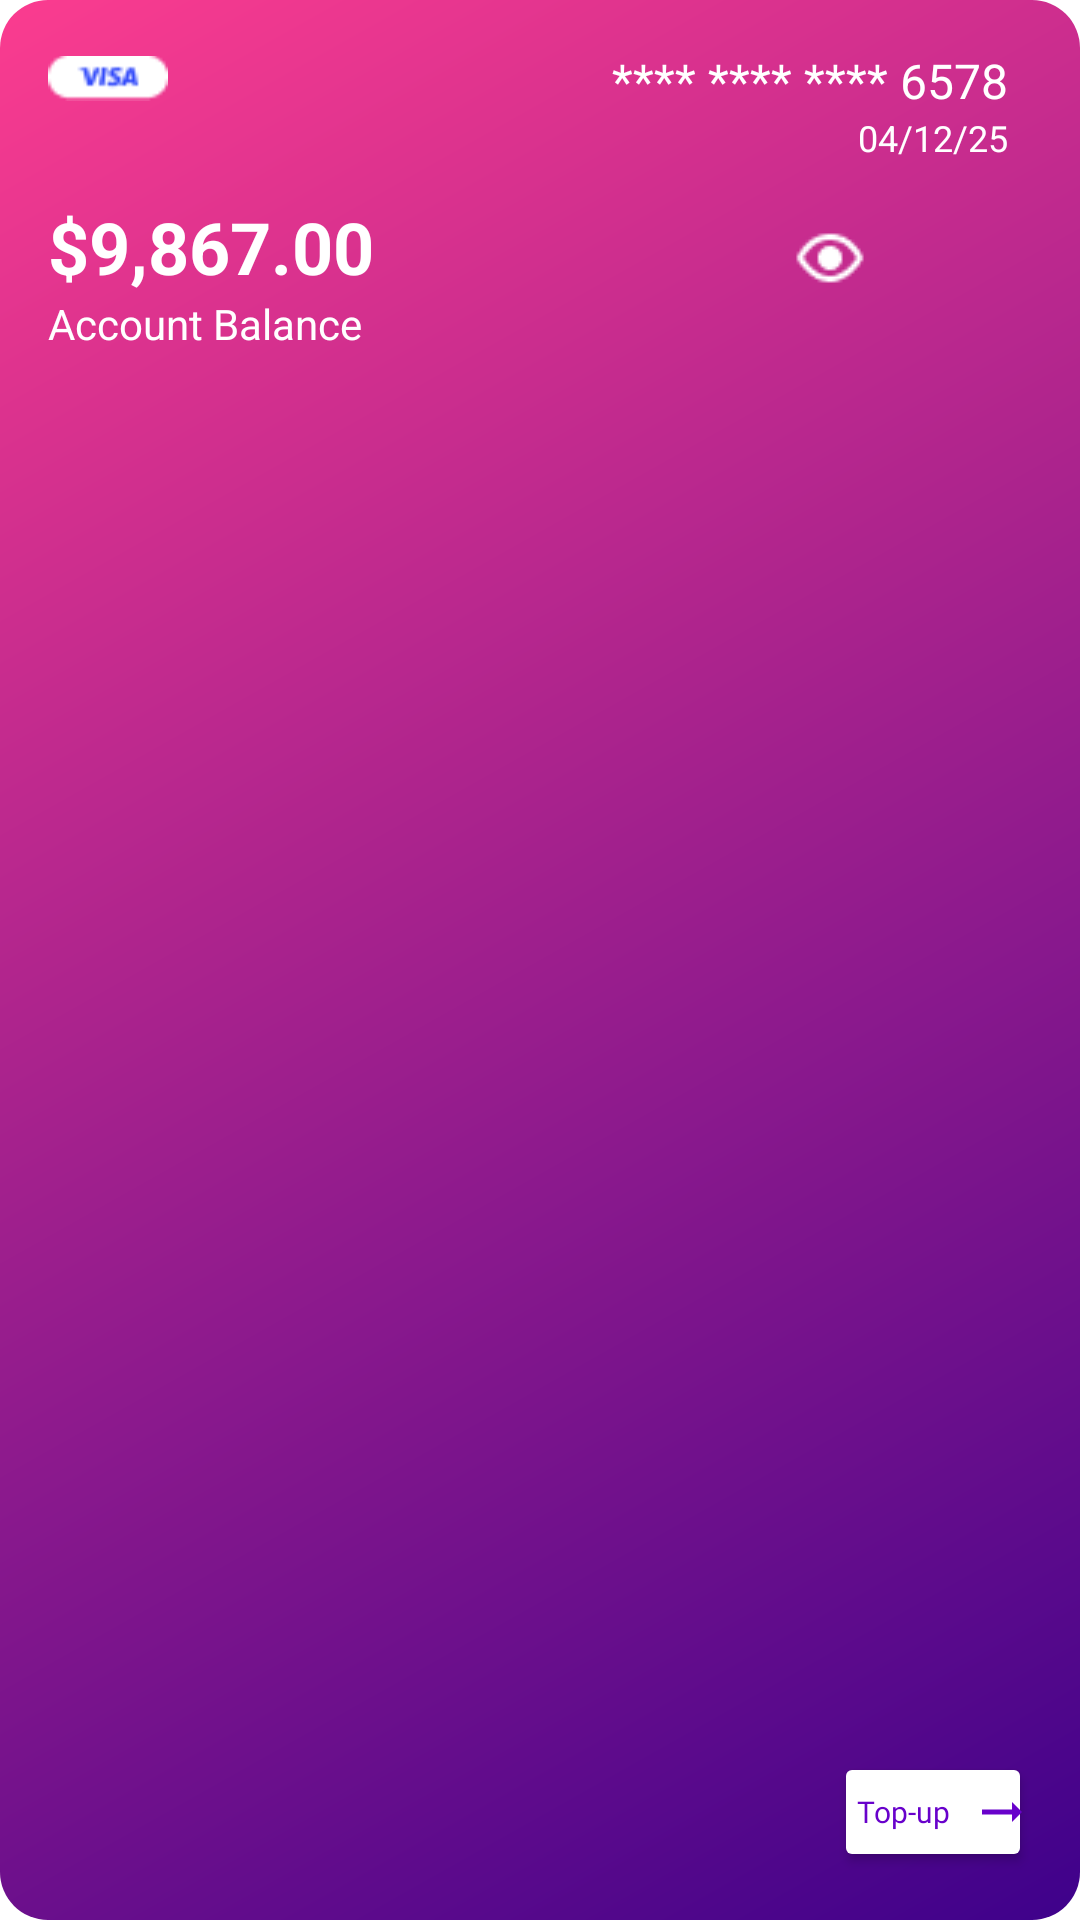

Icon bounding boxes for this 1080×1920 phone screenshot, format (x1, y1, x2, y2):
wallet eye: (796, 233, 864, 283)
